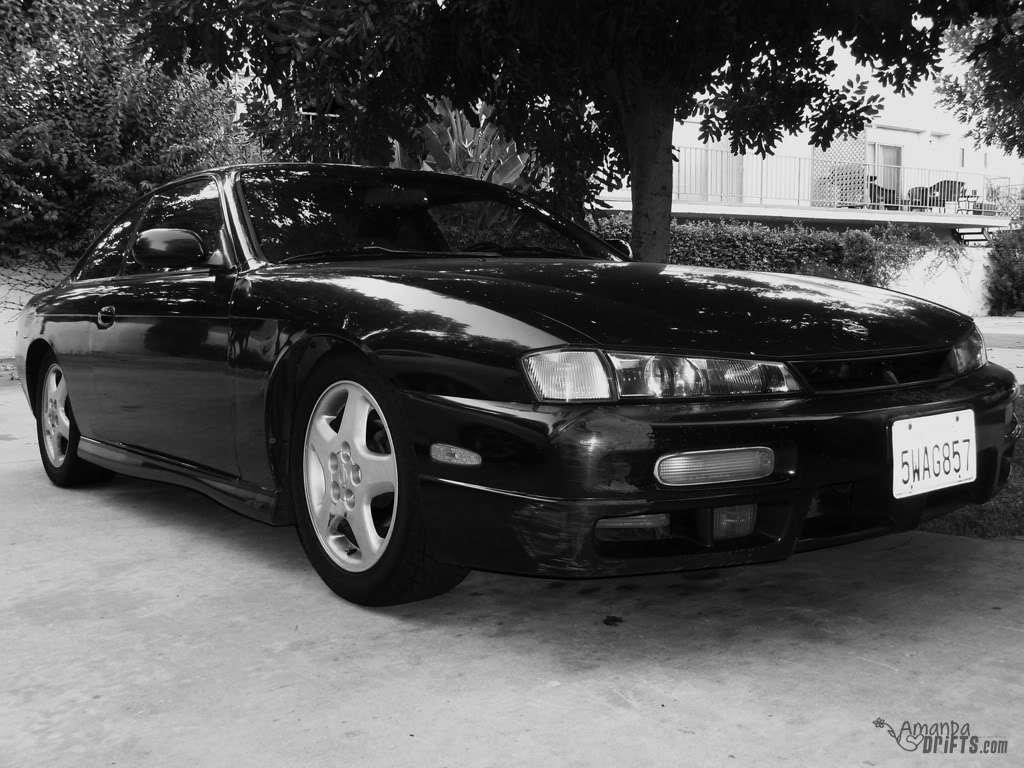car: (18, 162, 1017, 612)
